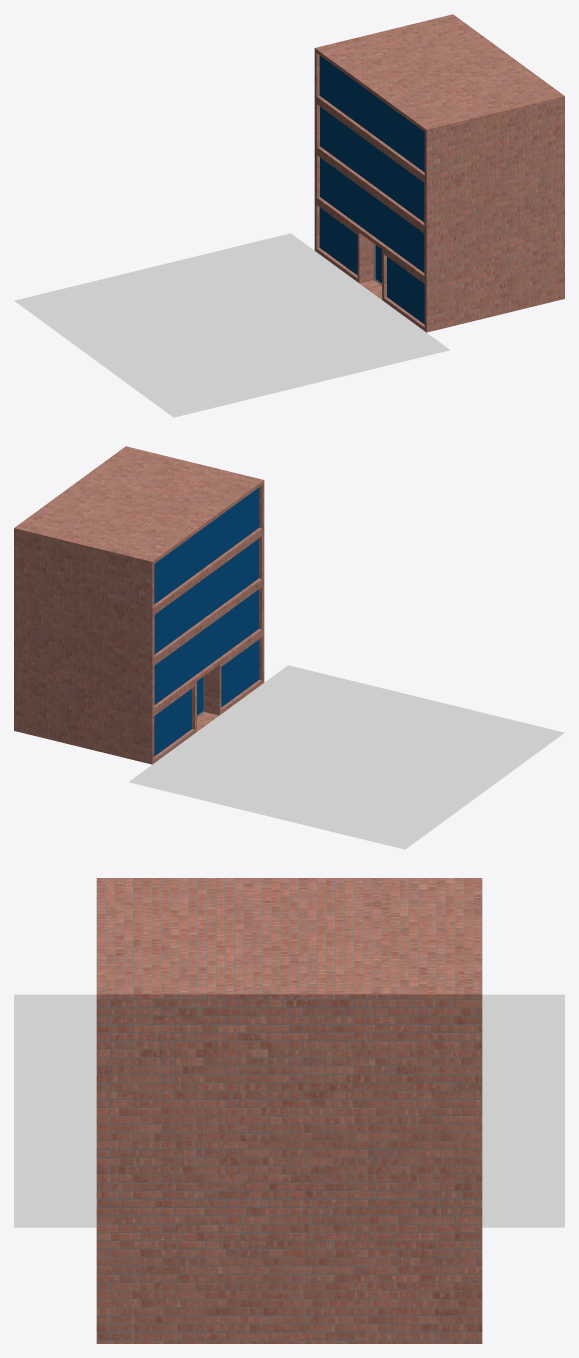
The model's file is plaza.glb.
3 renders of one model, top to bottom at view 1: azimuth 30°, elevation 25°; view 2: azimuth 150°, elevation 25°; view 3: azimuth 270°, elevation 25°, orthographic. The views are drawn at different scales.
Parts seen in each view (by area): view 1: Cube, ground; view 2: Cube, ground; view 3: Cube, ground.
Boxes of the visible parts, x1,y1,x2,y2 form: Cube: (314,14,564,332); ground: (14,233,450,417); Cube: (14,446,264,764); ground: (128,665,564,849); Cube: (96,878,482,1343); ground: (14,994,564,1227).
Size of the model in its own units: 300 by 140 by 200.
Materials: 4 (1 with a texture image).
